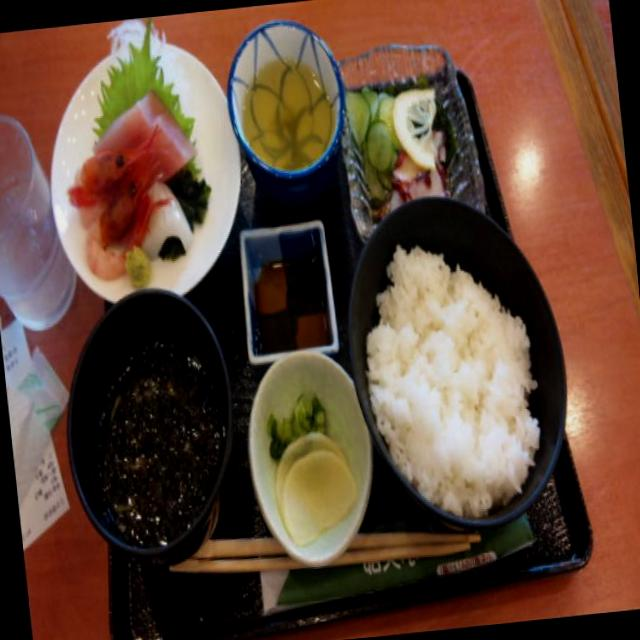Rice: (353, 225, 542, 509)
